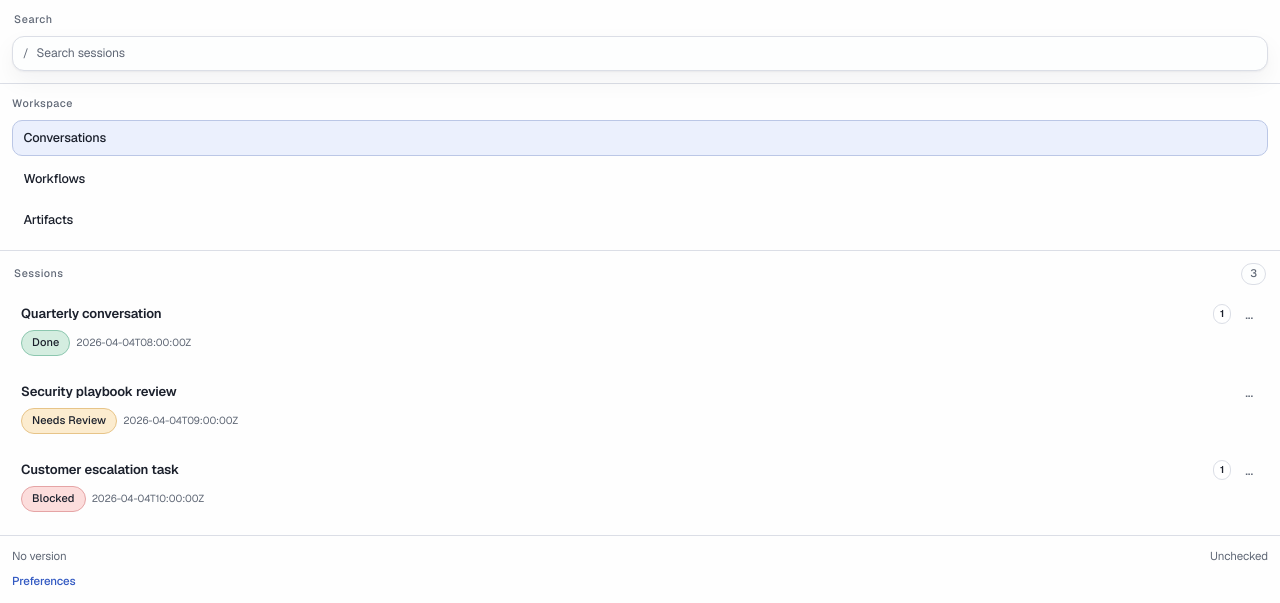
UserConsoleSidebar › filters the session list from the compact search box
expect the text "Quarterly conversation" is shown: met, box [21, 305, 162, 322]
Type "security" into the search field with placeholder "Search sessions" at [647, 53], box [36, 44, 1257, 62]
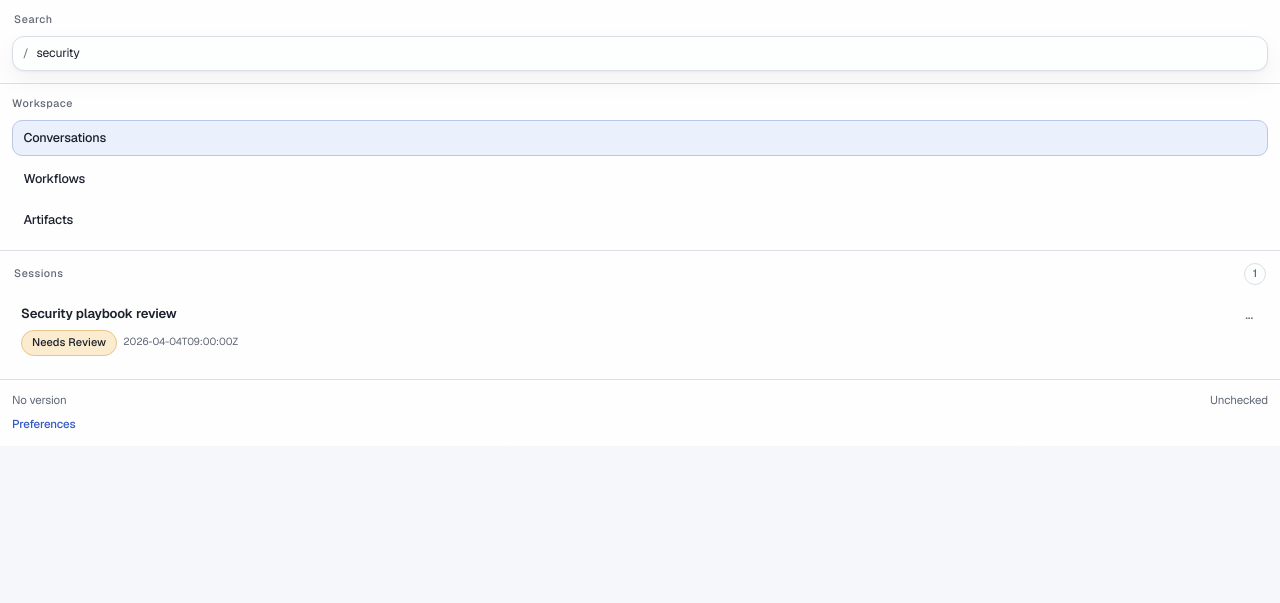
expect the text "Security playbook review" is shown: met, box [21, 305, 177, 322]
expect the link "Quarterly conversation" is gone: met
expect the link "Customer escalation task" is gone: met
